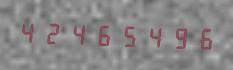five: (117, 20, 141, 50)
four: (17, 16, 41, 47), (67, 18, 91, 49), (142, 20, 166, 51)
nine: (167, 21, 191, 52)
six: (192, 22, 216, 53), (92, 19, 116, 49)
two: (42, 17, 66, 48)
